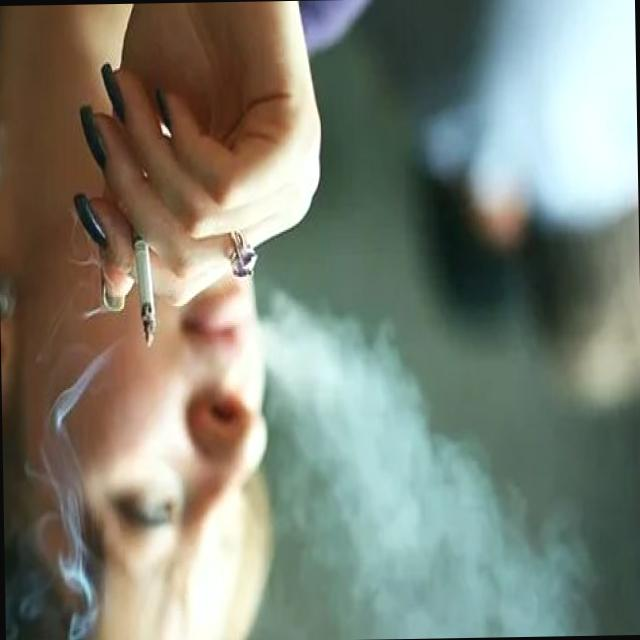smoke: (130, 223, 160, 354)
